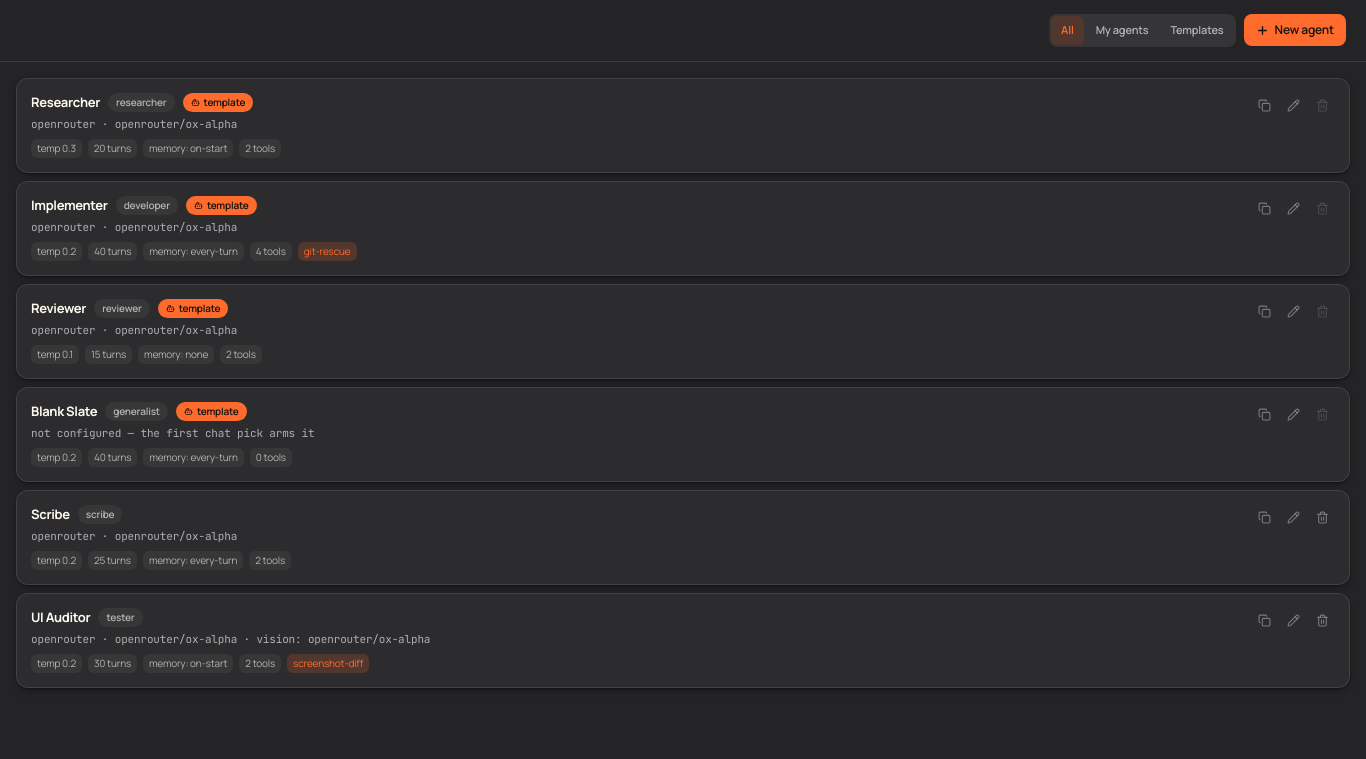
Test: AgentsScreen (fixture backend) › duplicate action creates a (copy) row
Expected: the text "Scribe" is shown, [31, 504, 70, 524]
Step 1. Click the button named "Duplicate Scribe" → (1264, 517), box [1252, 504, 1277, 530]
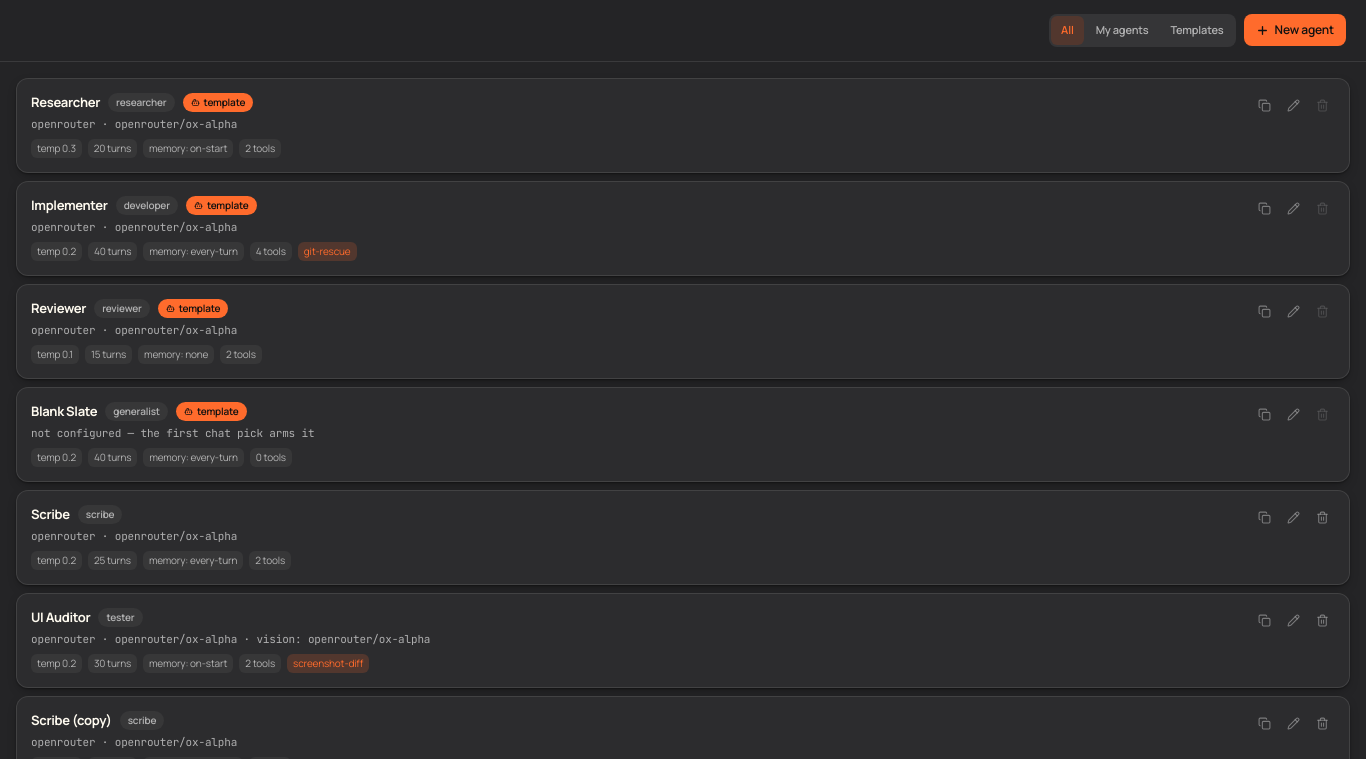
Expected: the text "Scribe (copy)" is shown, [31, 710, 112, 730]
